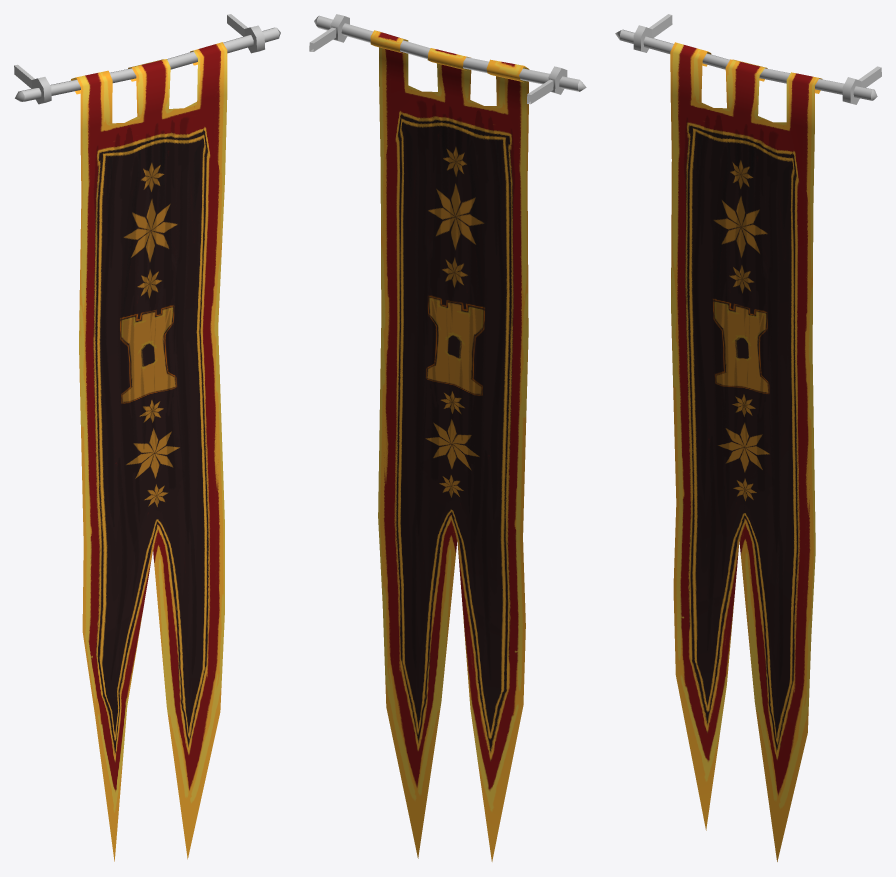
File: SM_PROP_flag_city_03.fbx
3 renders of one model, left to right at view 1: azimuth 30°, elevation 25°; view 2: azimuth 150°, elevation 25°; view 3: azimuth 330°, elevation 25°, orthographic. The views are drawn at different scales.
Parts seen in each view (by area): view 1: SM_PROP_flag_city_03; view 2: SM_PROP_flag_city_03; view 3: SM_PROP_flag_city_03.
Part boxes in pixels (box(x1,y1,x2,y2)): SM_PROP_flag_city_03: box(14, 14, 280, 861); SM_PROP_flag_city_03: box(309, 14, 586, 861); SM_PROP_flag_city_03: box(615, 14, 881, 861).
Bounding box in the file's own units: 190 × 555 × 45.51.
